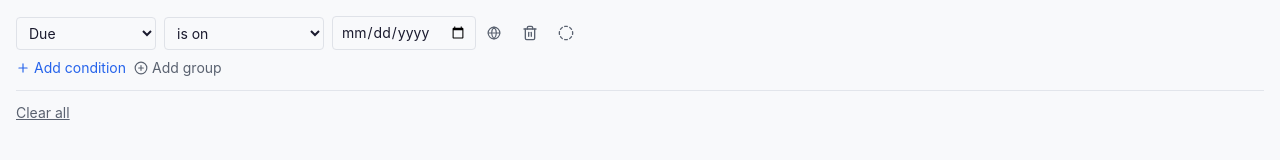
Test: date-first conditions in the filter builder › keeps "is not on" for DATE fields, and the relative-to-today escape to the older expression editor
Select "is relative to today" in the dropdown named "Filter operator": {"x": 244, "y": 33} 164,16 -> 324,50
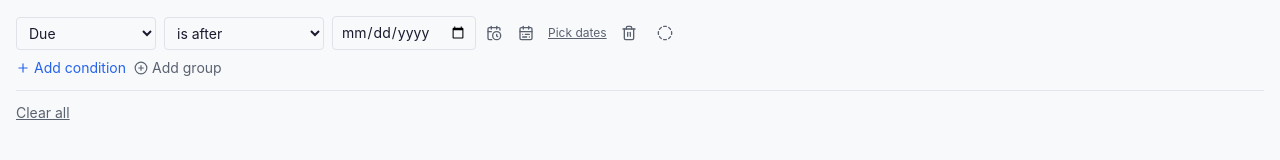
Expected: the button named "Relative date for Due" is shown, 480,19 -> 508,47
Click the button "Pick dates": {"x": 577, "y": 33} 548,25 -> 607,41
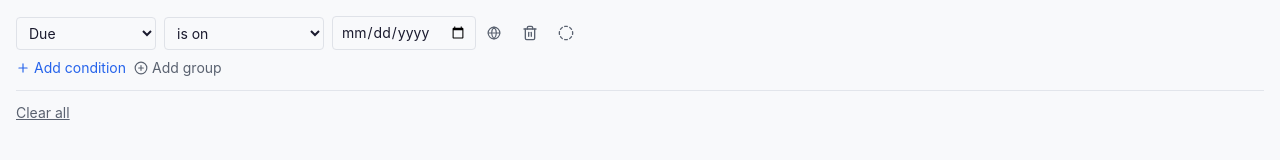
Expected: the dropdown named "Filter operator" shows "is on", 164,16 -> 324,50
